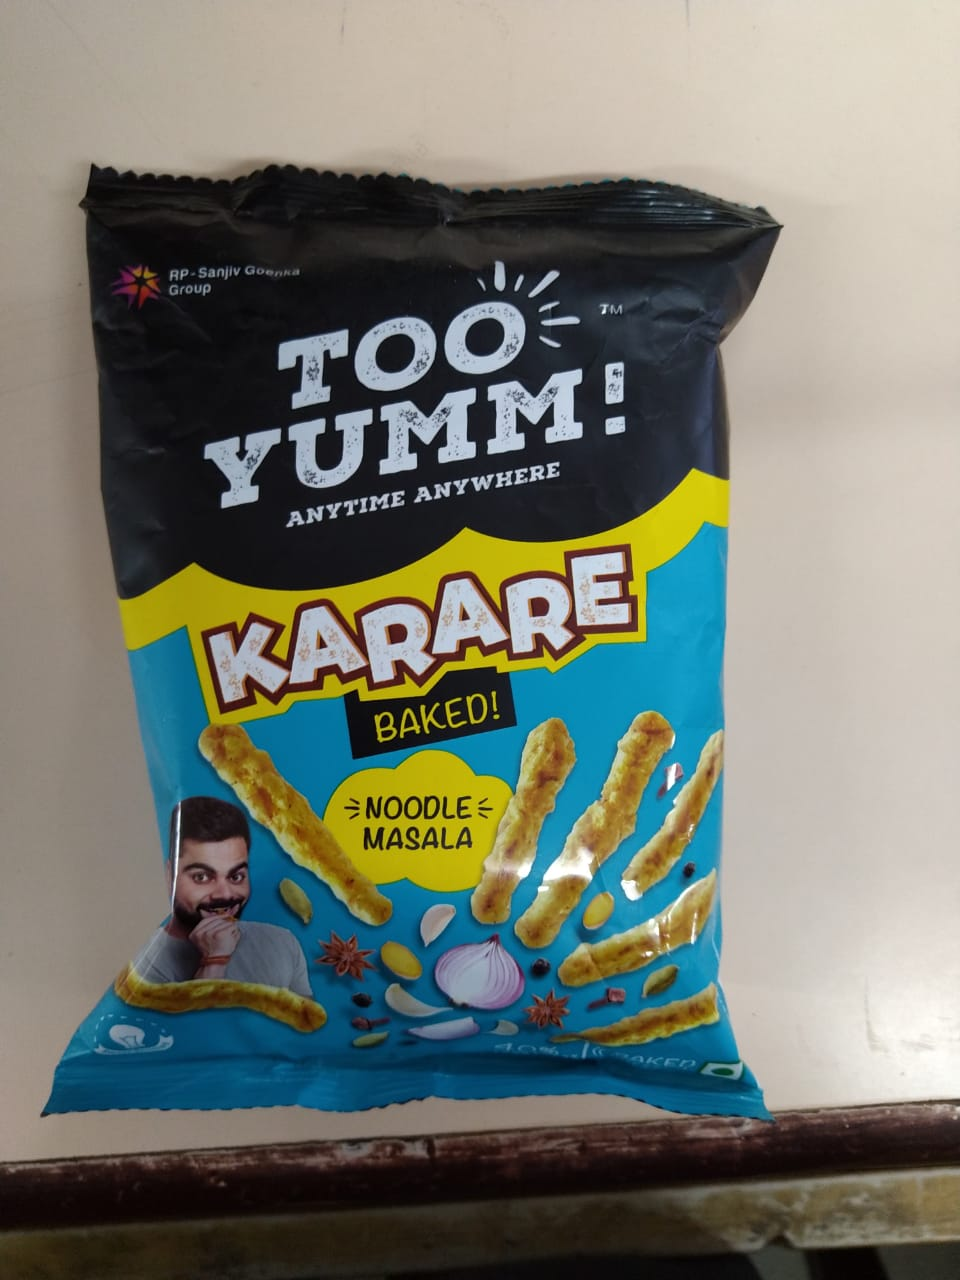plastic: (47, 140, 786, 1131)
tooyumm: (184, 254, 645, 537), (188, 297, 625, 489), (208, 350, 572, 535), (314, 285, 614, 473)
wrapper: (112, 136, 776, 1133)
